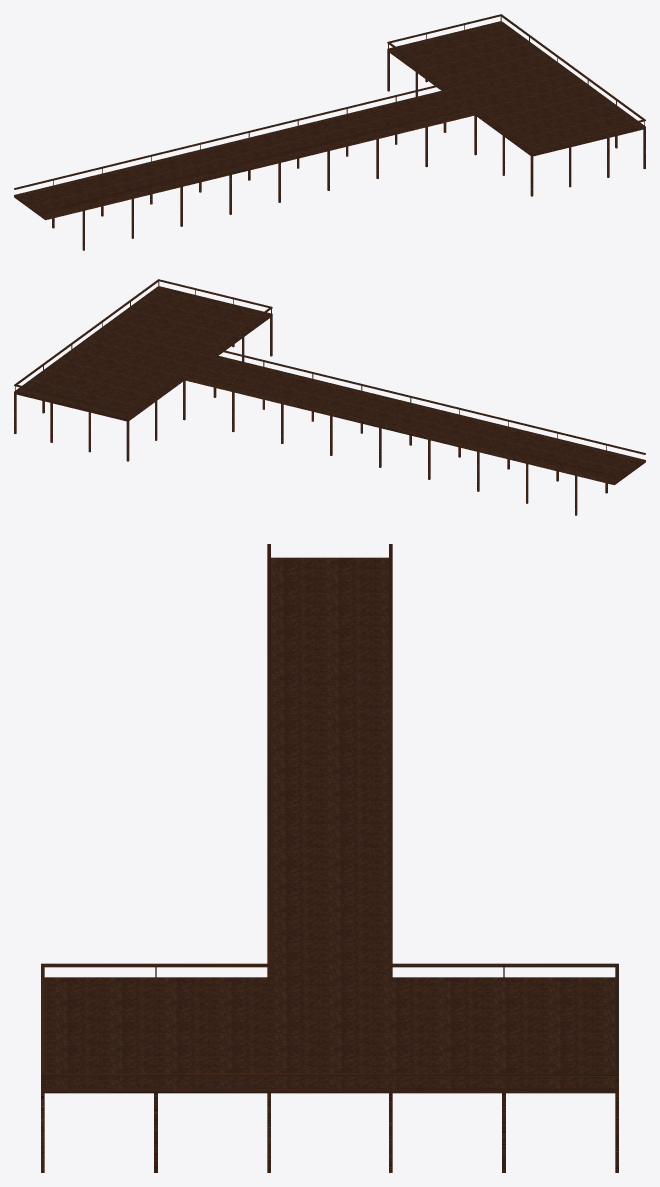
Rendered from awesome_island_dock_north.fbx.
3 renders of one model, top to bottom at view 1: azimuth 30°, elevation 25°; view 2: azimuth 150°, elevation 25°; view 3: azimuth 270°, elevation 25°, orthographic. The views are drawn at different scales.
Parts seen in each view (by area): view 1: north_dock; view 2: north_dock; view 3: north_dock.
Boxes of the visible parts, x1,y1,x2,y2 form: north_dock: [14, 14, 645, 250]; north_dock: [14, 279, 645, 515]; north_dock: [41, 544, 618, 1172].
Bounding box in the file's own units: 100 × 8.6 × 46.
